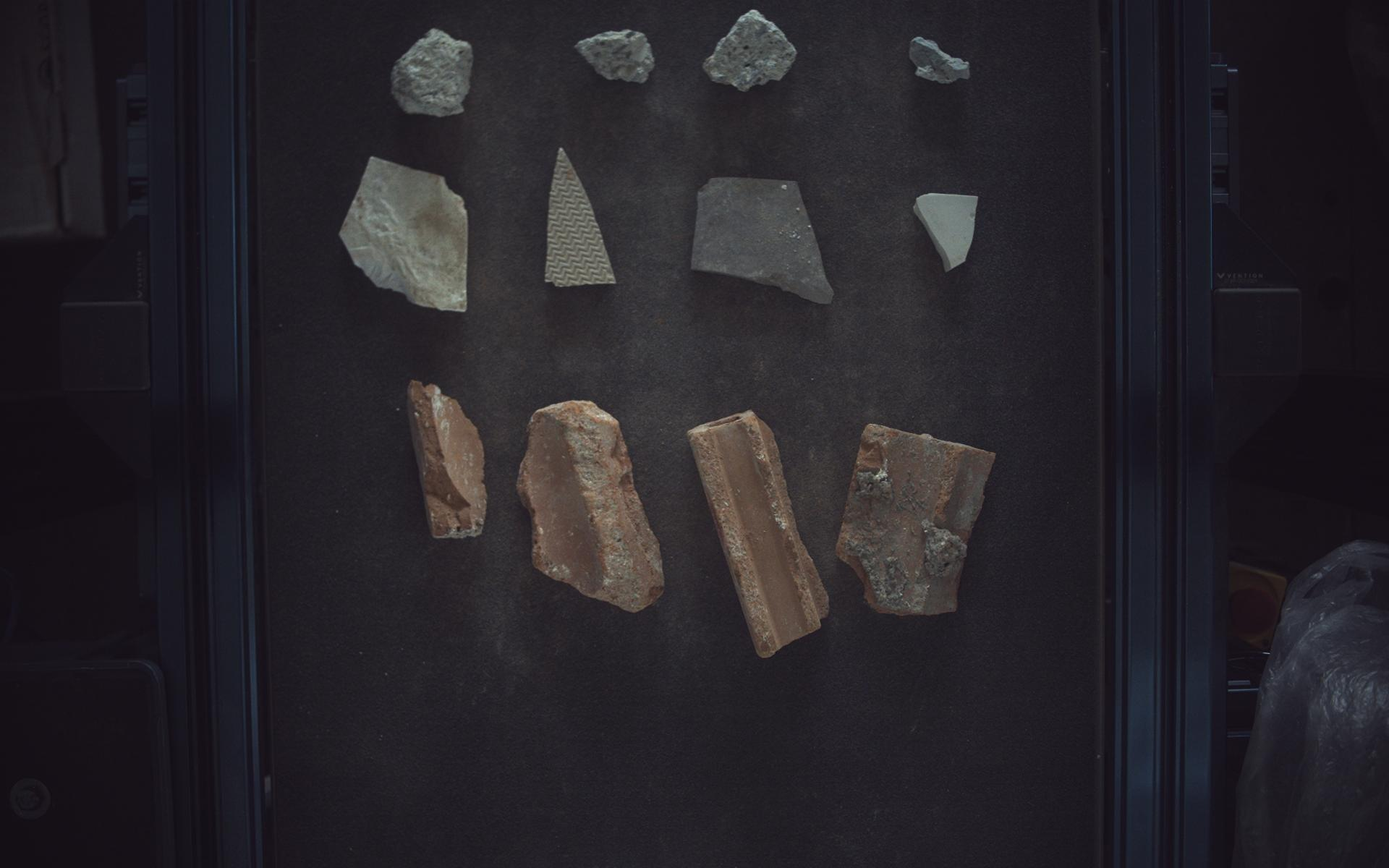brick: (689, 410, 831, 658), (517, 401, 665, 613), (838, 424, 997, 616), (407, 380, 487, 539)
concrete: (704, 8, 798, 90), (391, 27, 472, 116), (577, 28, 655, 82), (911, 36, 972, 82)
tile: (339, 156, 468, 311), (692, 177, 835, 303), (545, 147, 616, 286), (915, 192, 980, 271)
